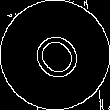O_SE: (22, 22, 88, 88)
